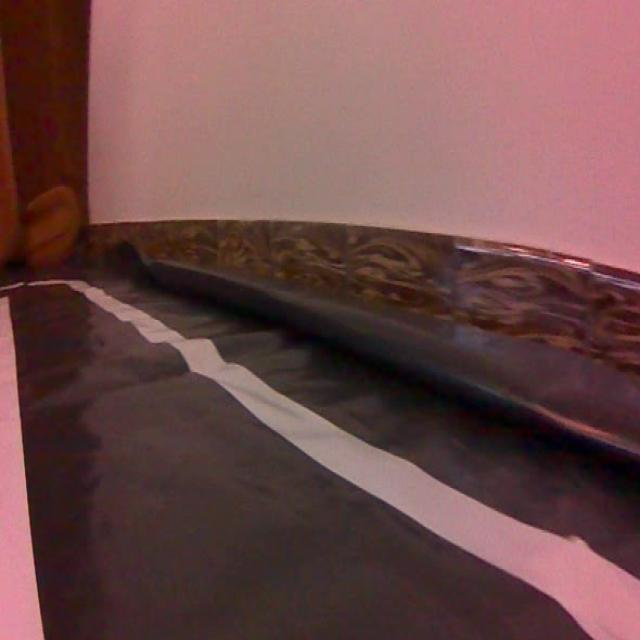LineaCarril: (169, 339, 640, 640), (0, 296, 44, 640), (69, 282, 168, 342)
